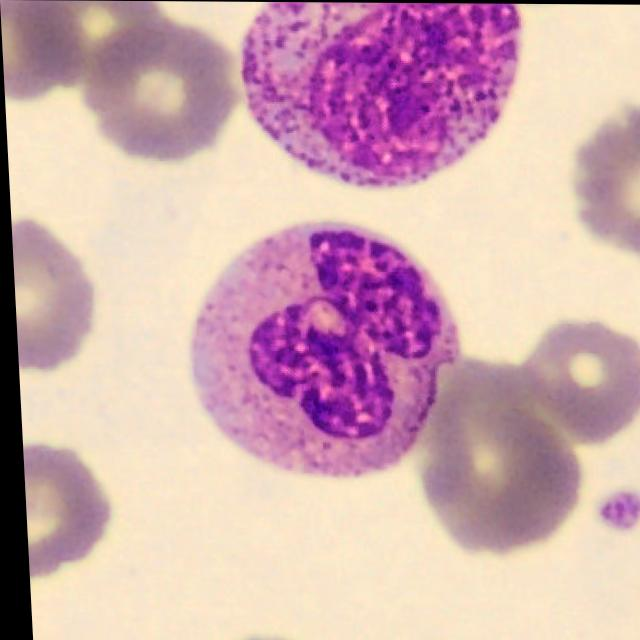Neutrofilo segmentado: (187, 227, 458, 480)
